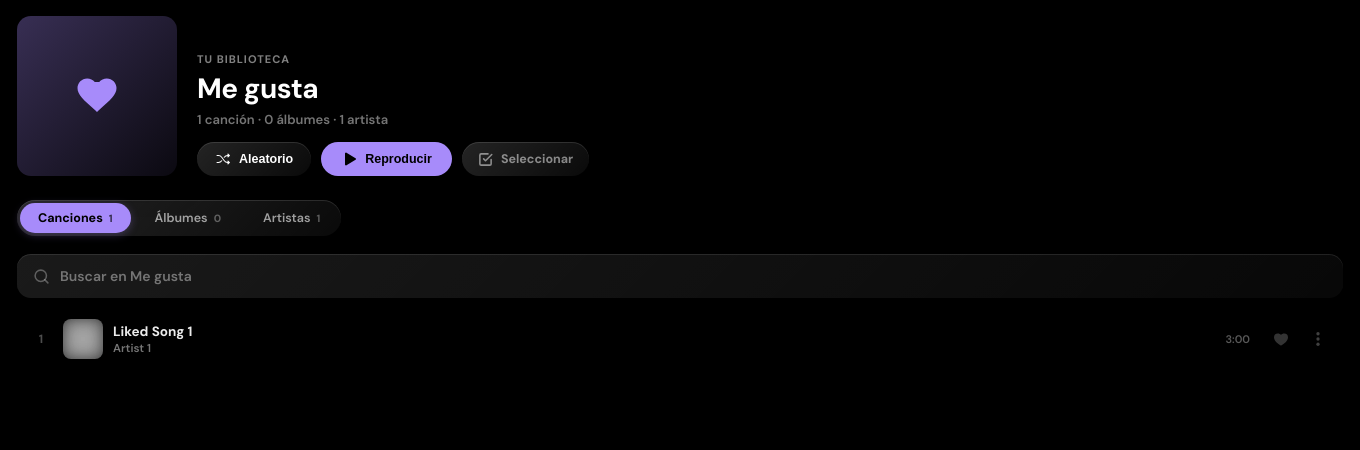
Test: LikedView › hides the play/shuffle buttons in the Artistas tab
Expected: the button with test id "hero-play" is shown, [321,142,452,176]
Expected: the button with test id "hero-shuffle" is shown, [197,142,311,176]
Step 1. Click the tab "Artistas 1" → (292, 218), box [245,203,338,233]
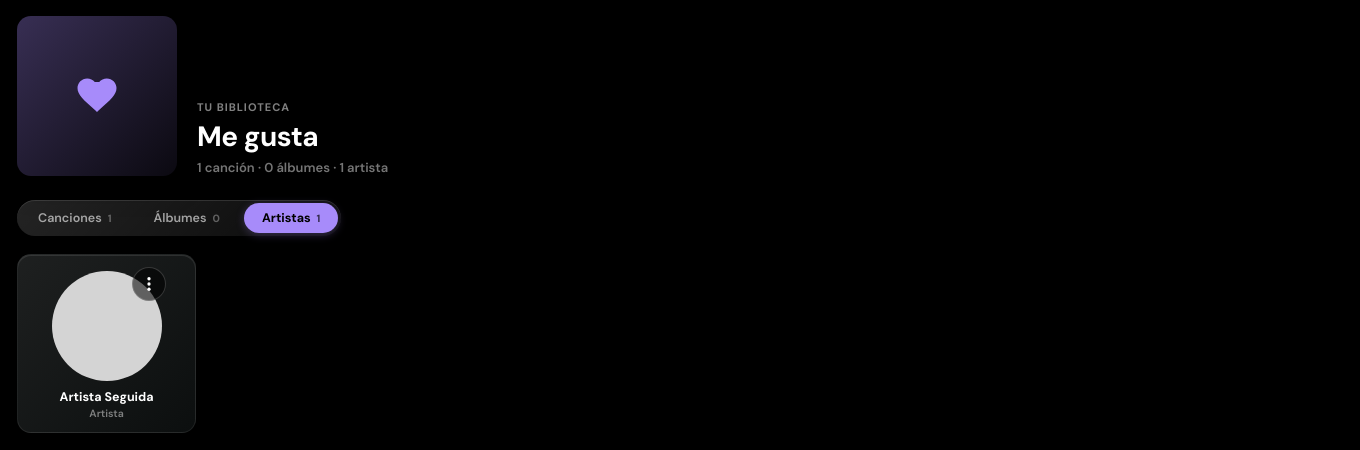
Expected: the button with test id "hero-play" is gone
Expected: the button with test id "hero-shuffle" is gone
Expected: the button "Seleccionar" is gone
